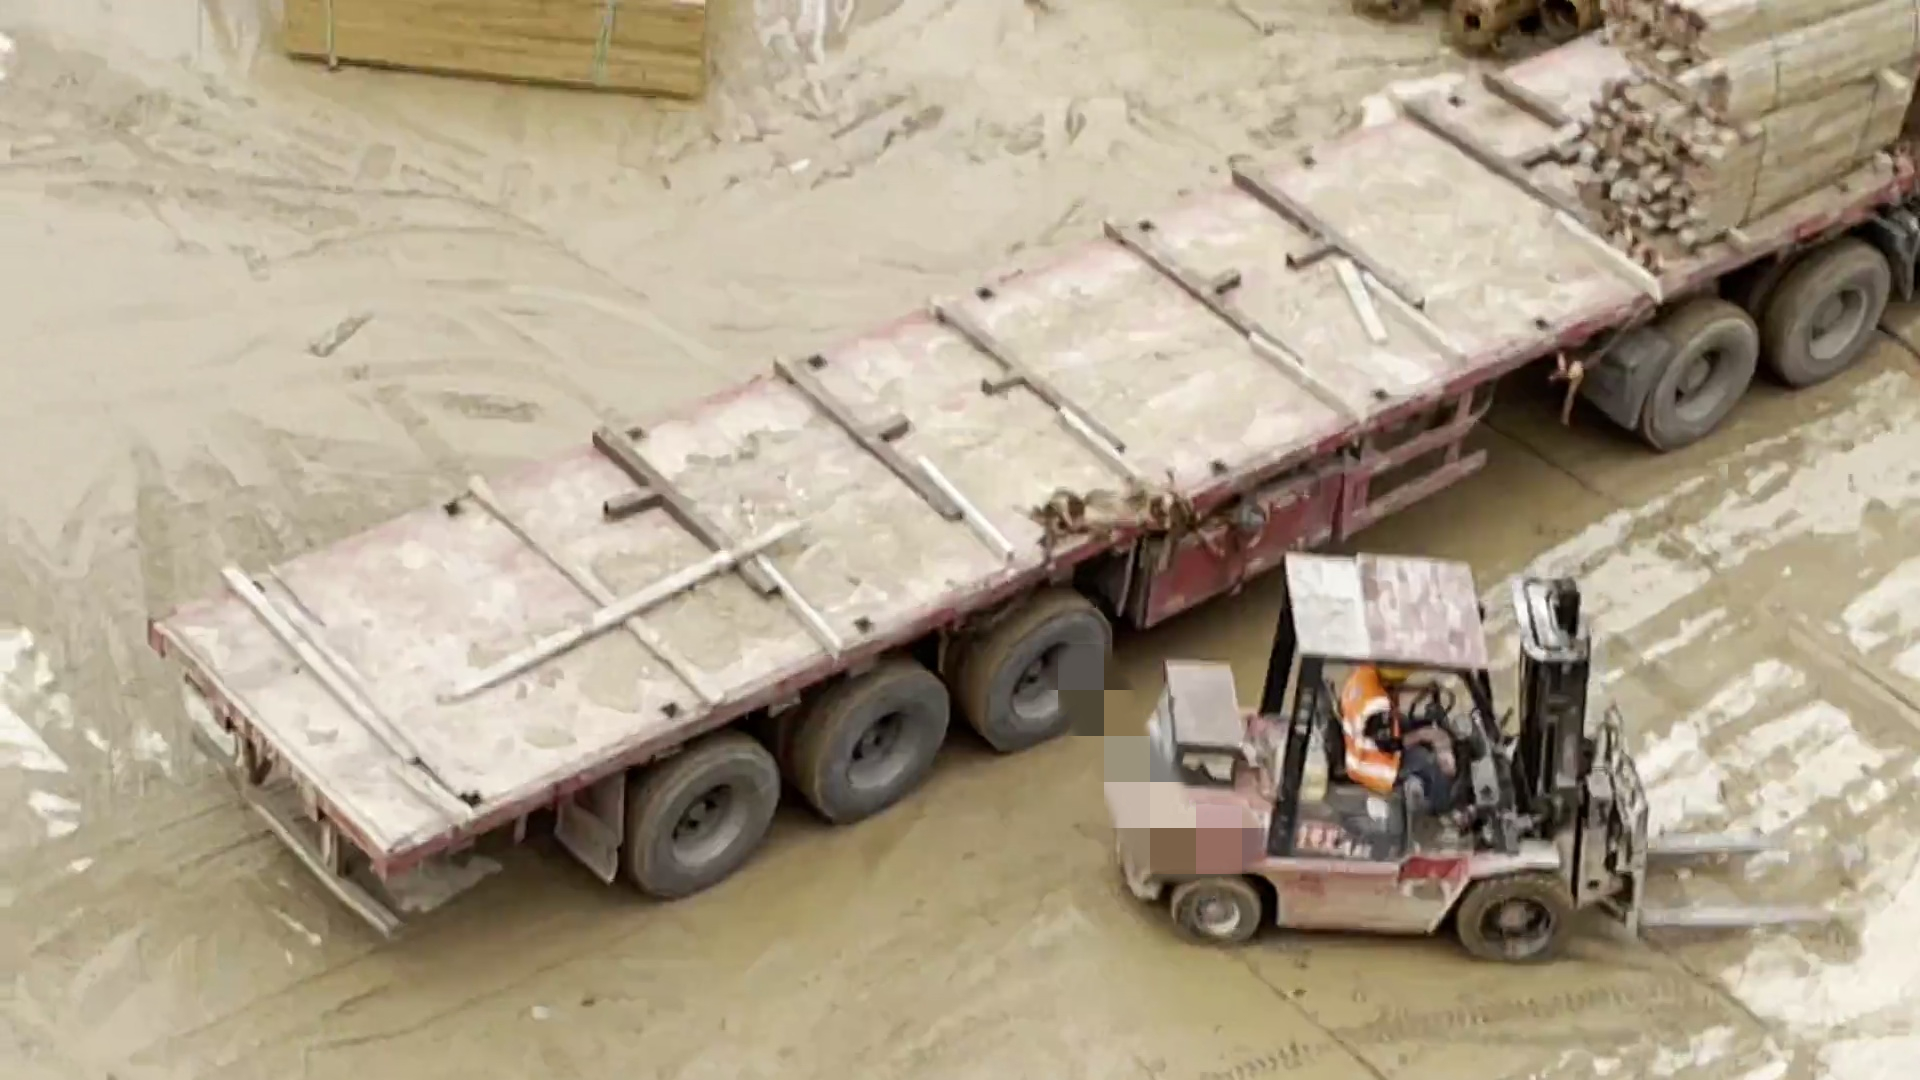person: (1345, 658, 1482, 849)
vest: (1335, 670, 1407, 792)
wood: (1577, 8, 1808, 265)
